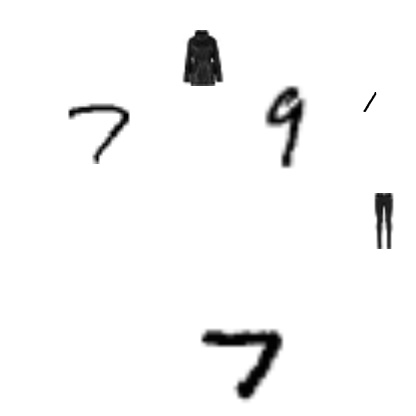6: (316, 336, 372, 392)
7: (165, 43, 193, 71)
9: (67, 46, 123, 102)
Bag: (268, 154, 282, 168)
Dress: (208, 102, 236, 130)
Trouser: (241, 178, 263, 200)
